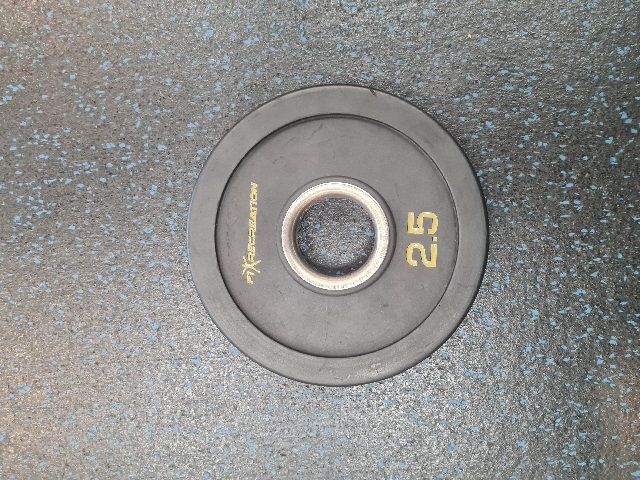weights: (183, 83, 491, 388)
